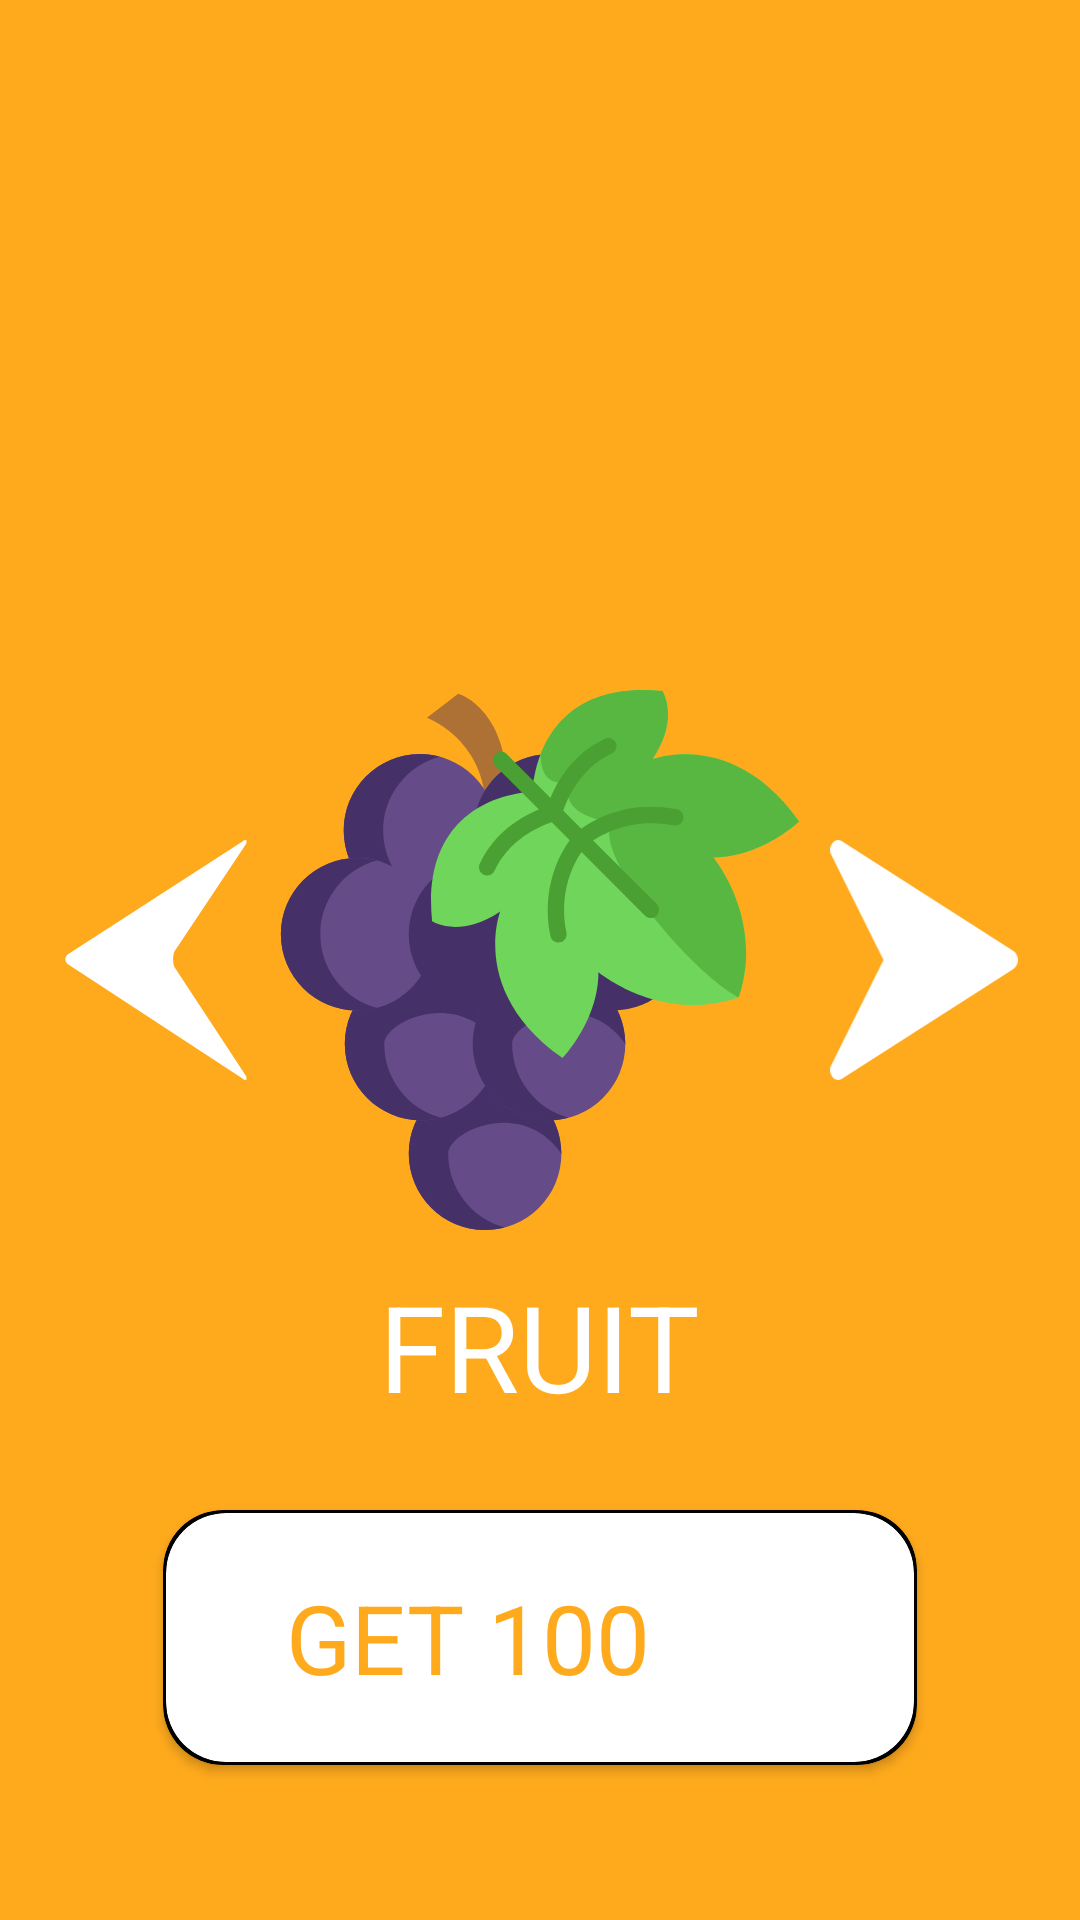

Icons on this 1080 x 1920 Android screen, each with the point to tap as (x=x, y=y):
left arrowhead variant: (x=156, y=960)
right: (x=924, y=960)
